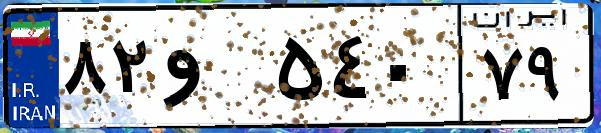0: (385, 28, 445, 110)
2: (110, 28, 158, 98)
4: (330, 28, 385, 110)
5: (270, 28, 330, 110)
7: (475, 38, 525, 113)
8: (57, 26, 110, 100)
9: (525, 38, 570, 115)
و: (158, 20, 270, 120)
